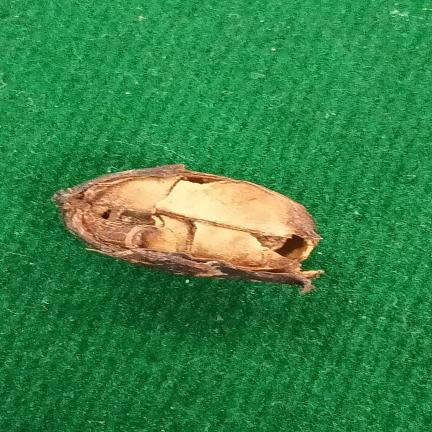full-black: (54, 165, 323, 292)
